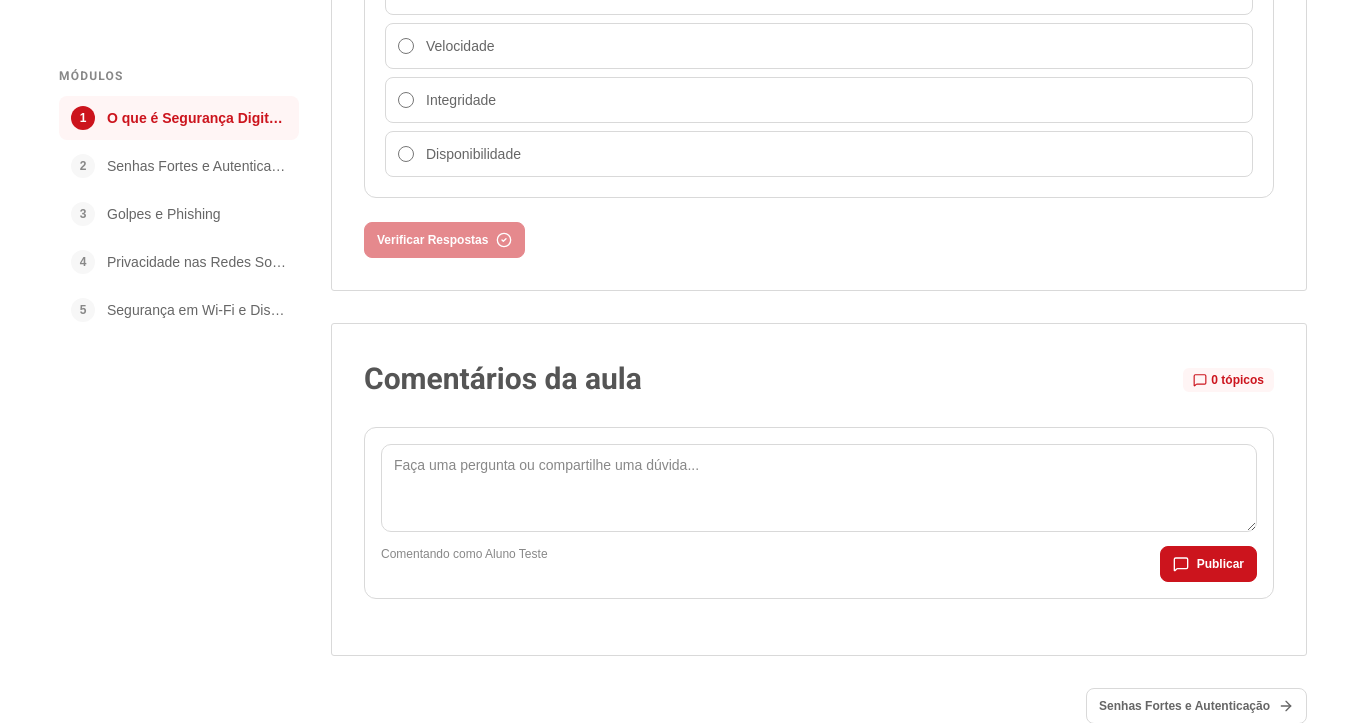
ModuloConteudo › publica uma nova mensagem no forum
This screenshot has width=1366, height=723.
(page scrolled)
Step 1. Type "Conteudo util para evitar golpes." into the text box with placeholder "Faça uma pergunta ou compartilhe uma dúvida..." → x=819, y=488, box [381, 444, 1257, 532]
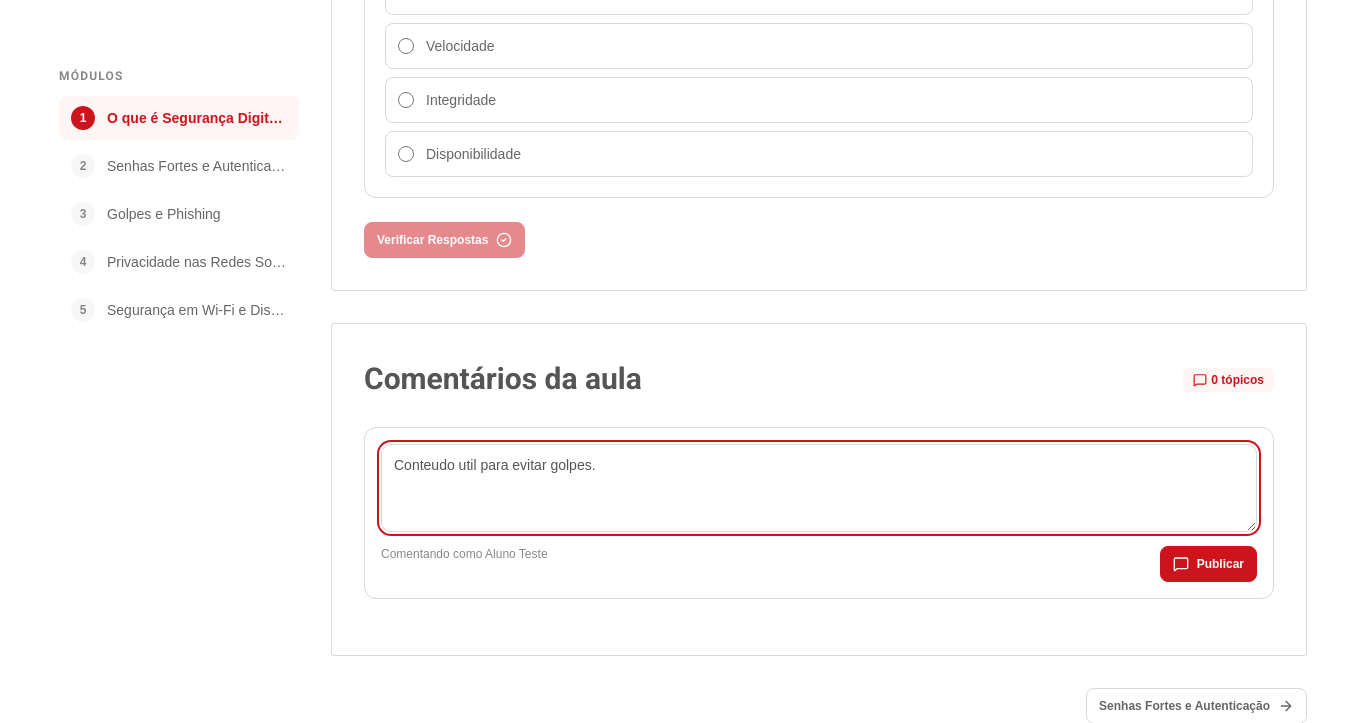
Step 2. Click the button "Publicar" → x=1208, y=564, box [1160, 546, 1257, 582]
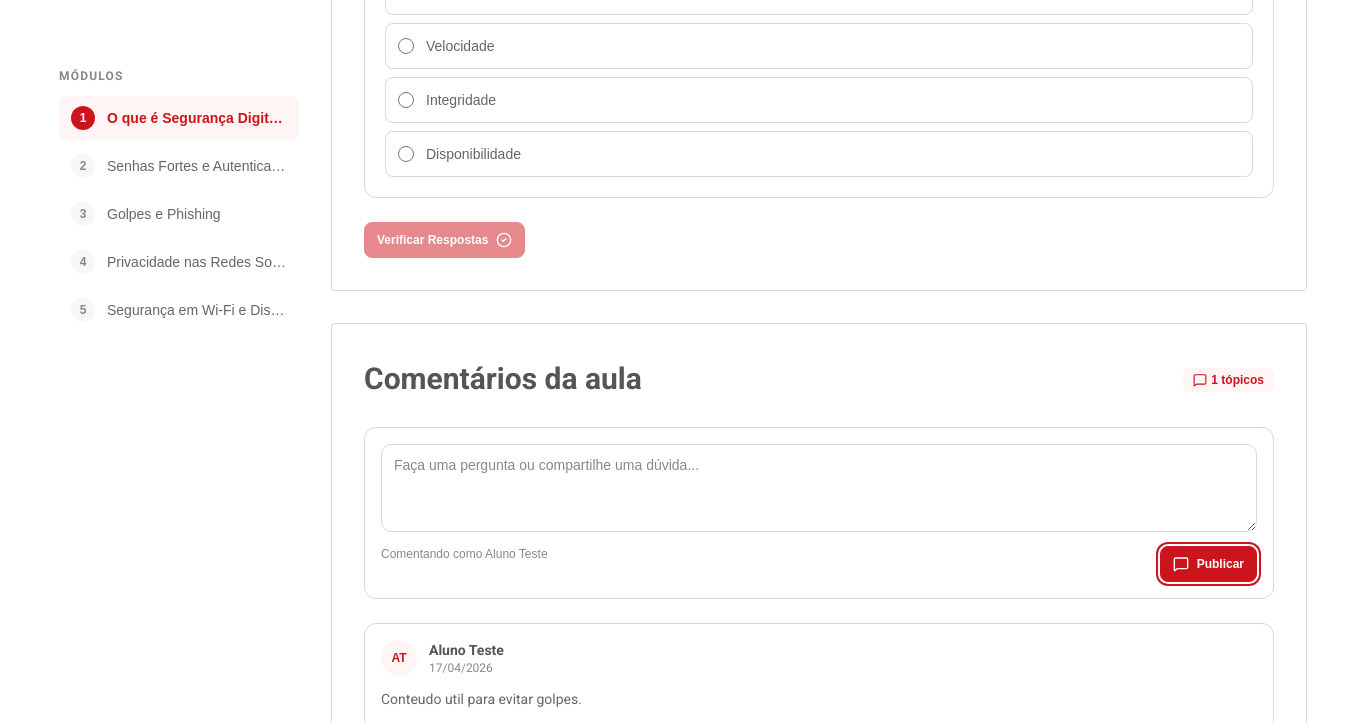
Check: the text "Conteudo util para evitar golpes." is shown, box [381, 691, 582, 707]
